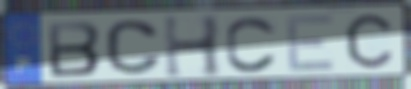B: (45, 19, 103, 79)
C: (103, 18, 165, 76), (224, 14, 280, 75), (343, 12, 396, 70)
E: (284, 12, 338, 73)
H: (161, 13, 225, 80)
